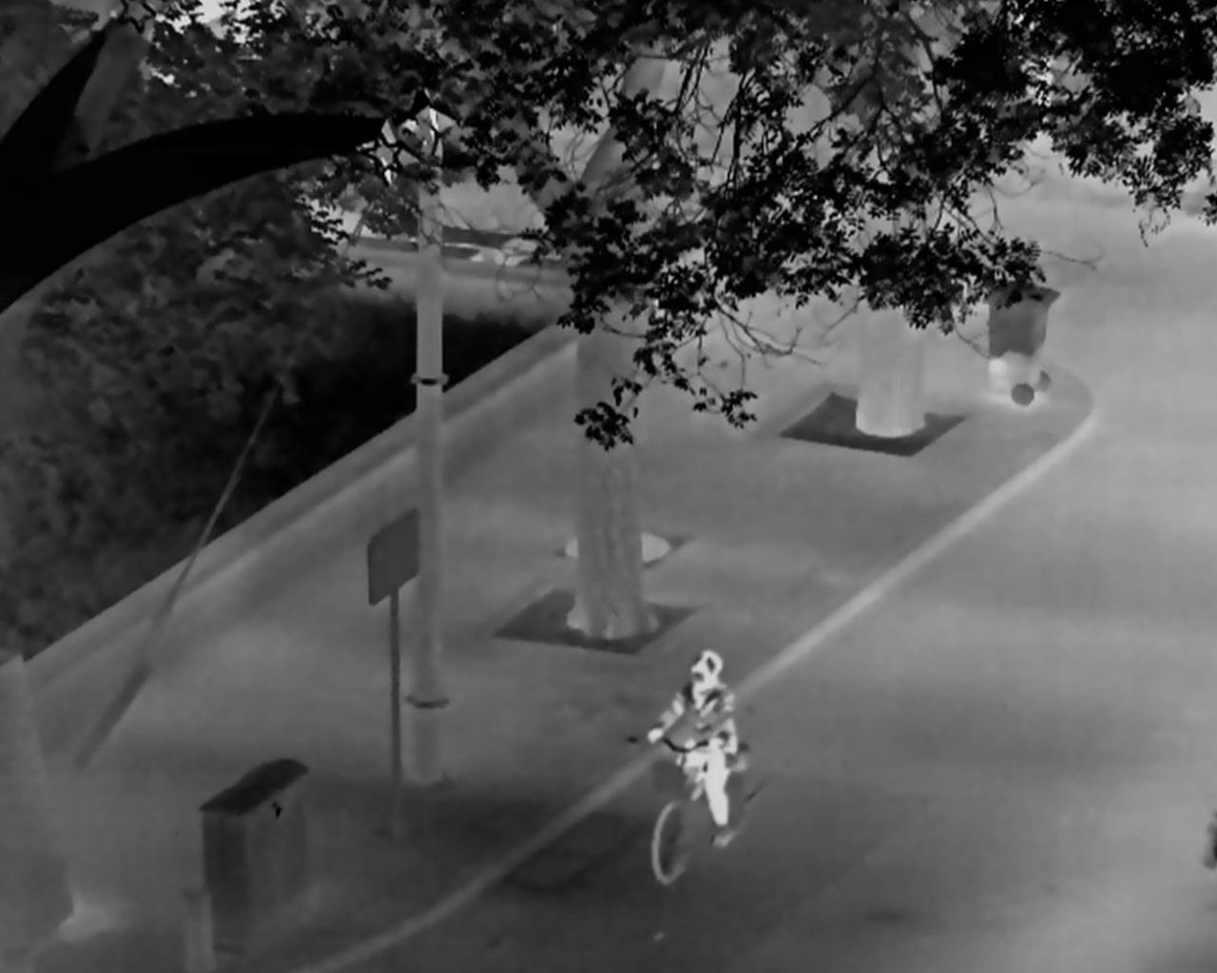person: (647, 648, 739, 848)
